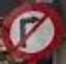Cam re: (2, 3, 61, 60)
